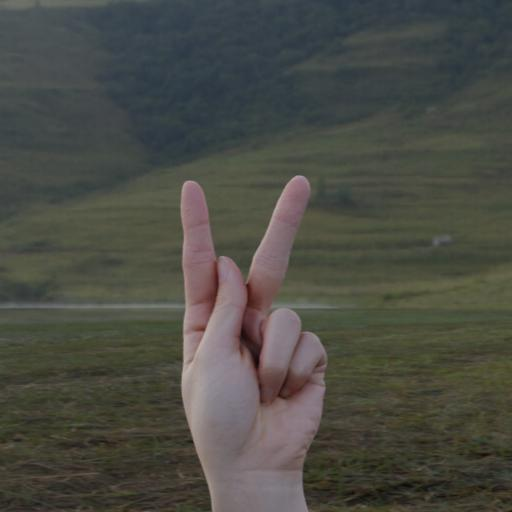K: (160, 161, 341, 512)
